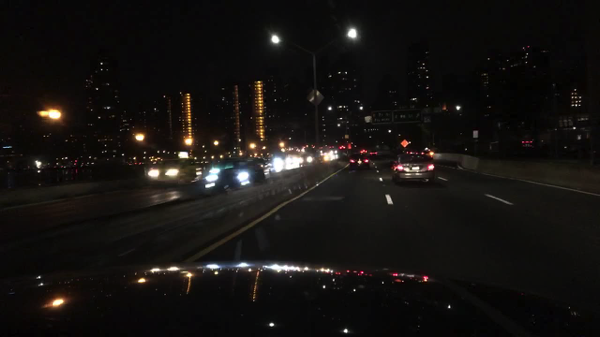car: (202, 158, 269, 191), (390, 153, 435, 187), (146, 158, 197, 185), (271, 150, 306, 171), (348, 152, 371, 171), (299, 148, 321, 167), (320, 148, 340, 161), (419, 147, 433, 162), (260, 158, 272, 171), (338, 148, 350, 158), (404, 149, 419, 157), (295, 147, 305, 153), (359, 148, 367, 155), (369, 150, 378, 156), (338, 145, 346, 150), (287, 146, 295, 151), (317, 145, 323, 150), (311, 144, 317, 149), (329, 145, 334, 149)
traffic sign: (393, 109, 422, 124), (307, 88, 325, 107), (370, 110, 392, 125), (400, 138, 410, 148), (423, 115, 432, 124), (364, 116, 373, 124), (472, 130, 479, 139), (345, 133, 349, 139)
